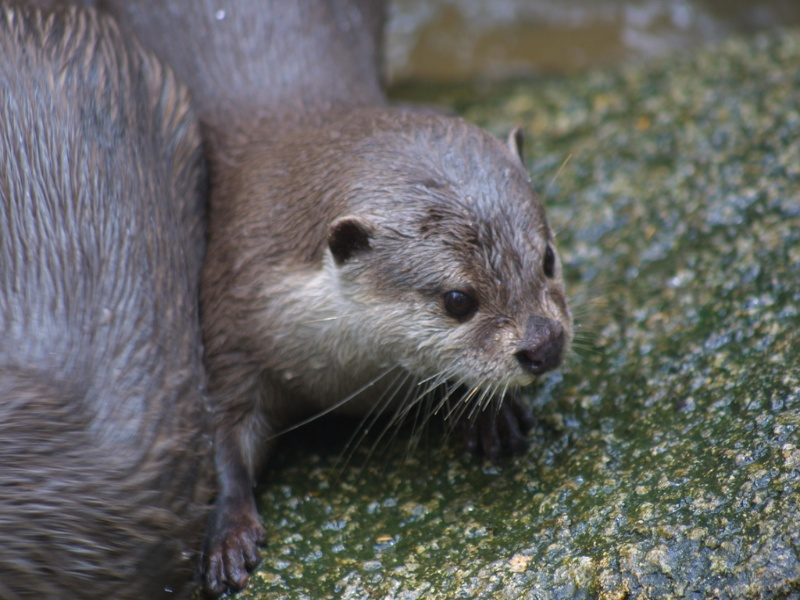minkish: (10, 1, 587, 592)
